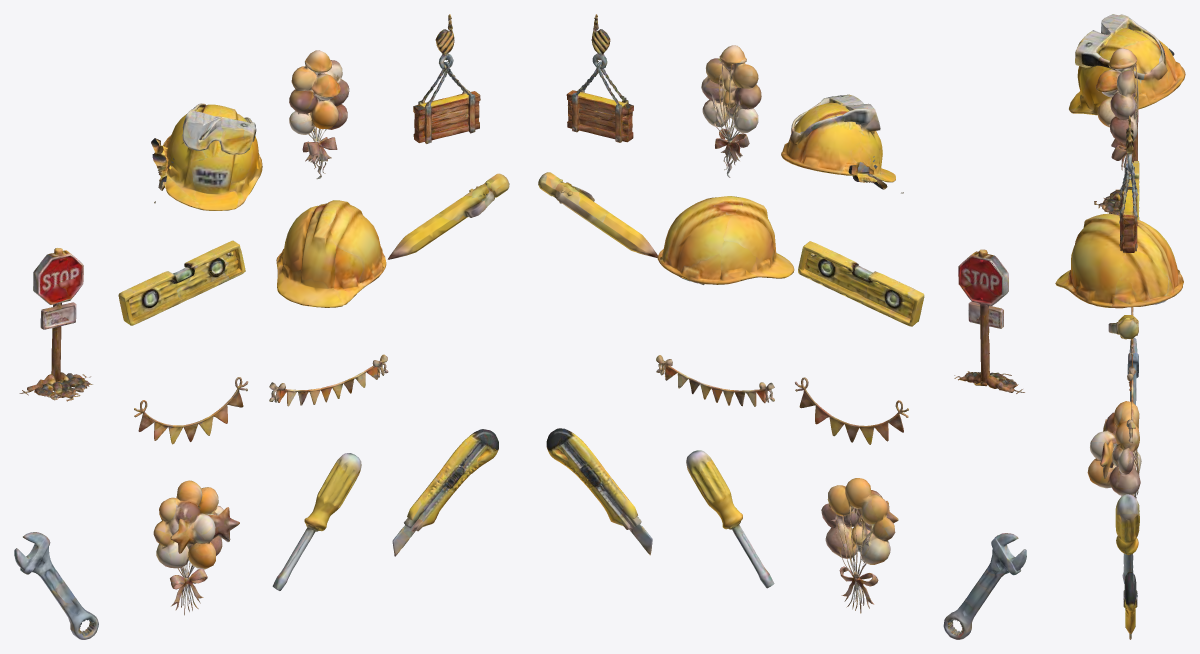
3 views of the same model, side by side, from view 1: azimuth 30°, elevation 25°; view 2: azimuth 150°, elevation 25°; view 3: azimuth 270°, elevation 25° (orthographic). The views are drawn at different scales.
Parts seen in each view (by area): view 1: Mesh 4, Mesh 8, Mesh 7, Mesh 11, Mesh 5, Mesh 3, Mesh 14, Mesh 15, Mesh 10, Mesh 13, Mesh 2, Mesh 6 (+1 smaller); view 2: Mesh 8, Mesh 4, Mesh 7, Mesh 11, Mesh 5, Mesh 3, Mesh 14, Mesh 15, Mesh 10, Mesh 13, Mesh 2, Mesh 6 (+1 smaller); view 3: Mesh 8, Mesh 4, Mesh 7, Mesh 11, Mesh 15, Mesh 10, Mesh 14, Mesh 13, Mesh 3, Mesh 2, Mesh 9, Mesh 5.
Part boxes in pixels (box(x1,y1,x2,y2)): Mesh 4: box(151, 103, 262, 210); Mesh 8: box(276, 200, 386, 307); Mesh 7: box(153, 480, 239, 615); Mesh 11: box(289, 50, 349, 179); Mesh 5: box(118, 240, 245, 325); Mesh 3: box(19, 248, 92, 401); Mesh 14: box(392, 429, 498, 556); Mesh 15: box(413, 14, 480, 143); Mesh 10: box(272, 453, 361, 590); Mesh 13: box(387, 173, 509, 259); Mesh 2: box(14, 532, 98, 639); Mesh 6: box(134, 377, 248, 444); Mesh 8: box(657, 196, 794, 284); Mesh 4: box(781, 94, 903, 193); Mesh 7: box(821, 478, 898, 613); Mesh 11: box(701, 45, 761, 177); Mesh 5: box(798, 241, 924, 326); Mesh 3: box(954, 249, 1024, 393); Mesh 14: box(546, 428, 652, 555); Mesh 15: box(566, 14, 633, 142); Mesh 10: box(686, 450, 774, 588); Mesh 13: box(538, 172, 657, 257); Mesh 2: box(943, 533, 1026, 639); Mesh 6: box(795, 377, 908, 444); Mesh 8: box(1055, 213, 1183, 308); Mesh 4: box(1069, 14, 1185, 115); Mesh 7: box(1087, 401, 1141, 498); Mesh 11: box(1095, 48, 1138, 185); Mesh 15: box(1119, 115, 1138, 252); Mesh 10: box(1115, 494, 1139, 583); Mesh 14: box(1123, 572, 1137, 639); Mesh 13: box(1108, 315, 1138, 339); Mesh 3: box(1094, 110, 1138, 215); Mesh 2: box(1127, 338, 1138, 404); Mesh 9: box(1126, 366, 1136, 443); Mesh 5: box(1125, 161, 1139, 219).
Bounding box in the file's own units: 1.82 × 1.91 × 0.4019.
13 materials, 13 textured.
